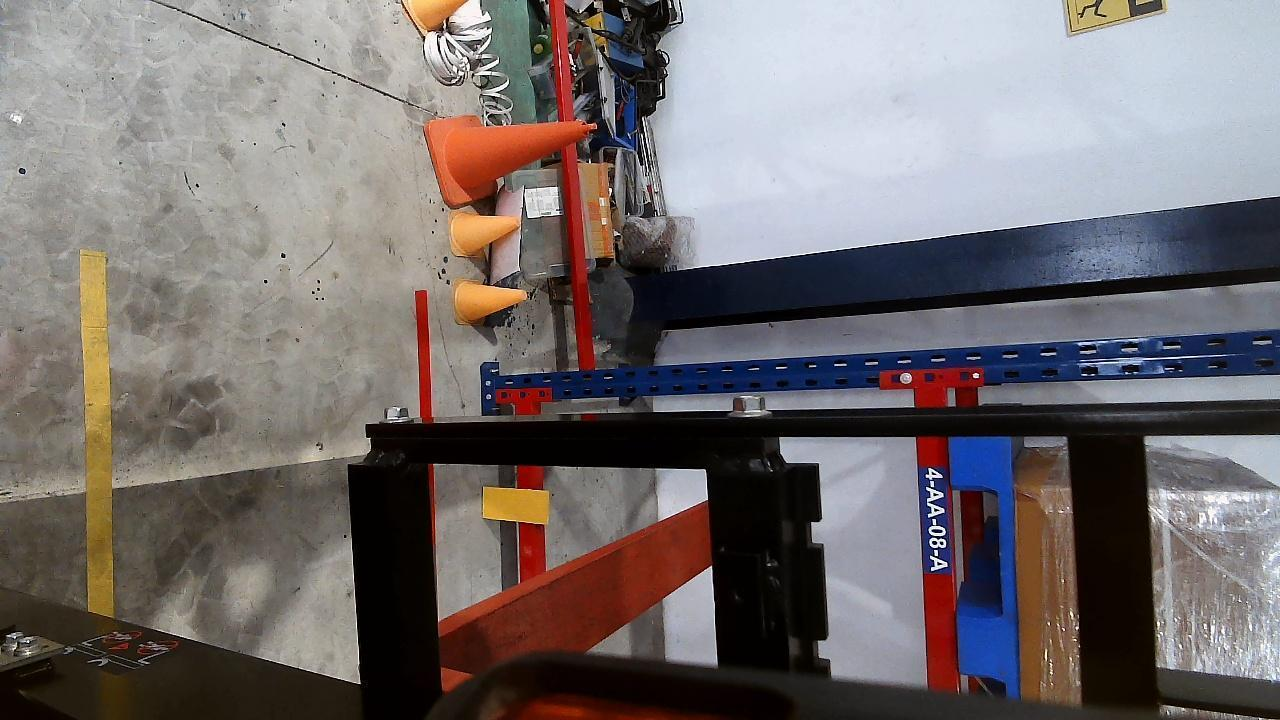red_line: (414, 293, 435, 424)
yellow_line: (79, 248, 113, 615)
